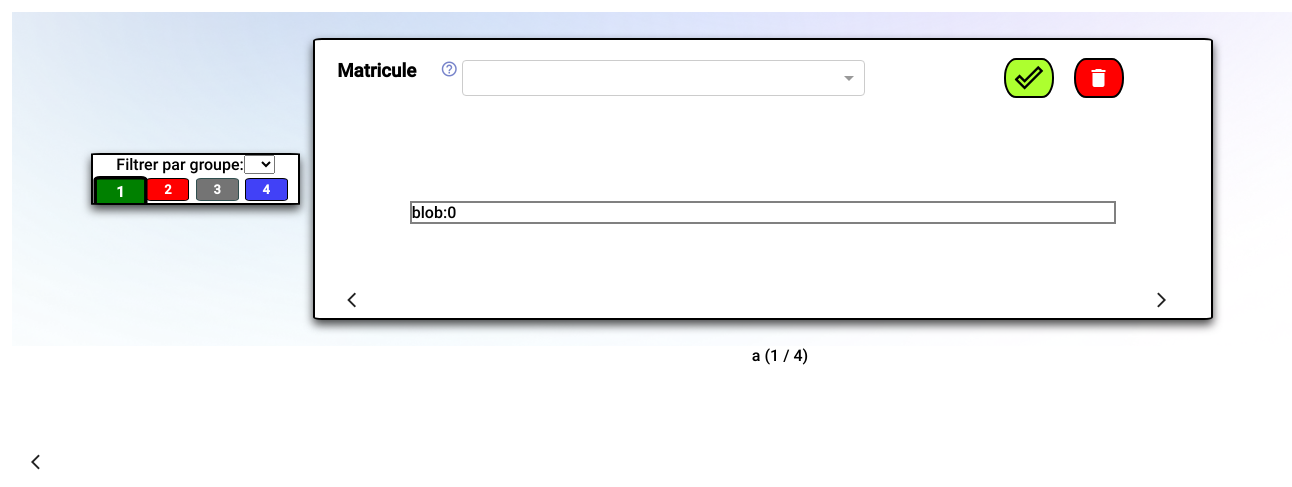
Test: MatriculeVerificationComponent › a copy not read yet opens, and its matricule can be validated by hand
Click the element with class "file-container" showing "3" at (216, 188), box [196,178,237,199]
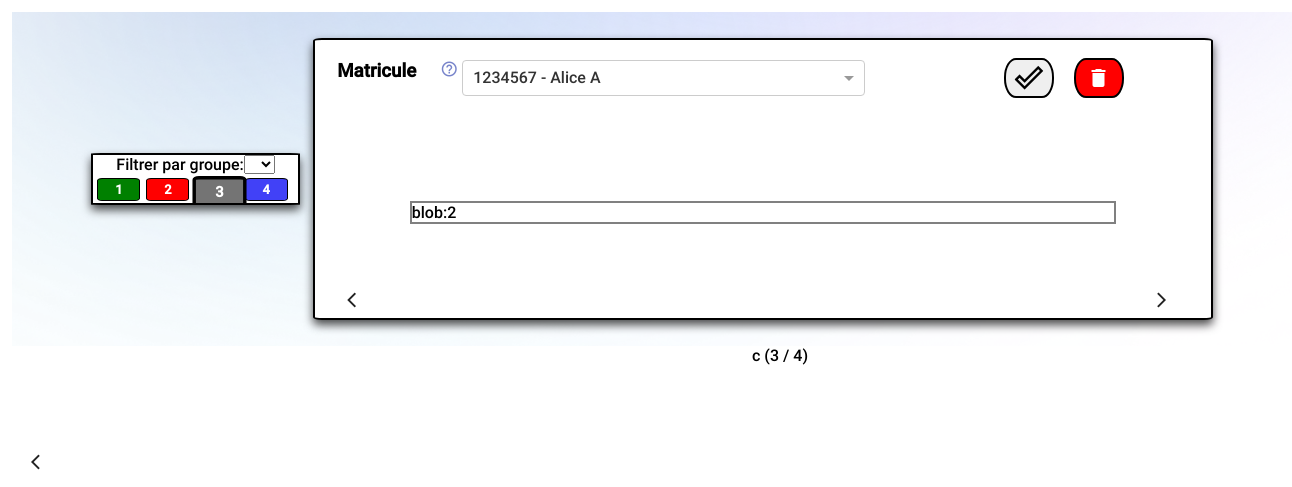
Check: the text "blob:2" is shown, box [412,203,456,222]
